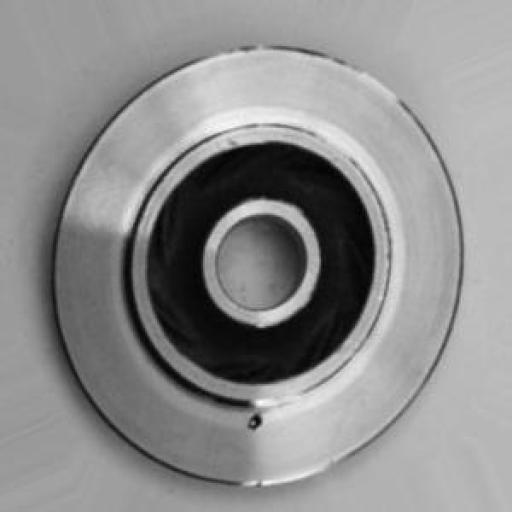defect: (197, 378, 303, 468)
